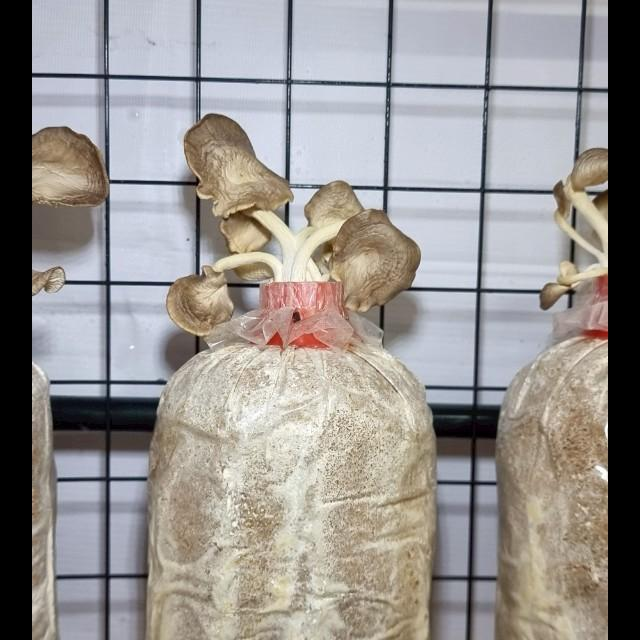abnormal: (192, 118, 330, 298), (304, 202, 434, 320), (168, 238, 296, 330)
